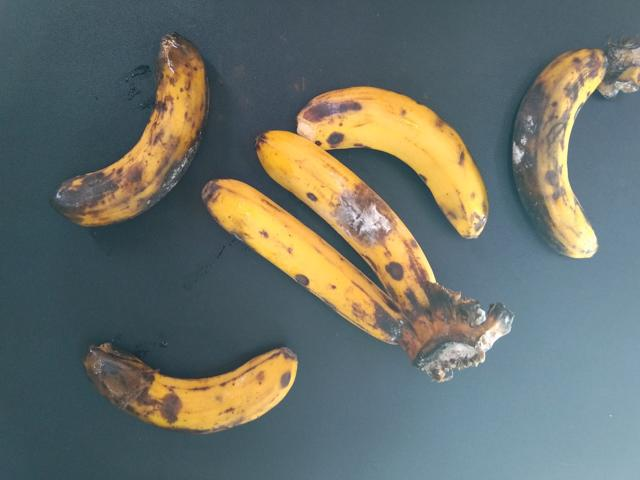overripe: (210, 179, 412, 357), (292, 76, 497, 228), (263, 127, 427, 283)
rotten: (36, 20, 215, 236), (71, 323, 325, 458), (502, 26, 631, 273)
